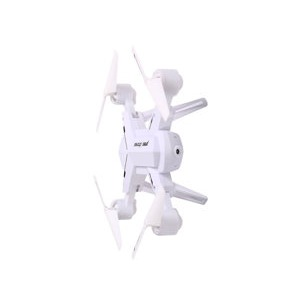drone: (92, 47, 208, 255)
